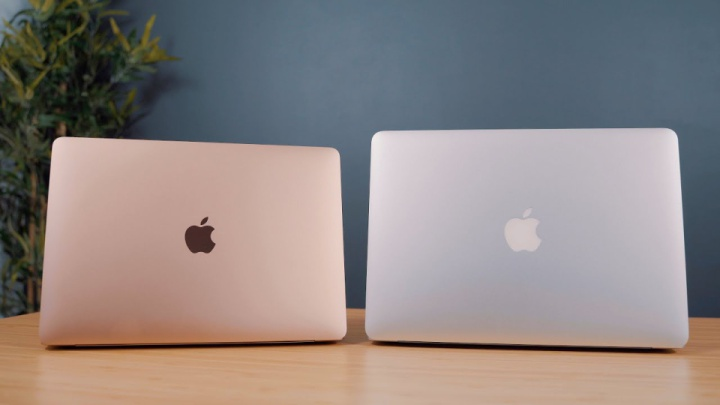apple: (166, 206, 261, 279), (482, 184, 563, 262)
